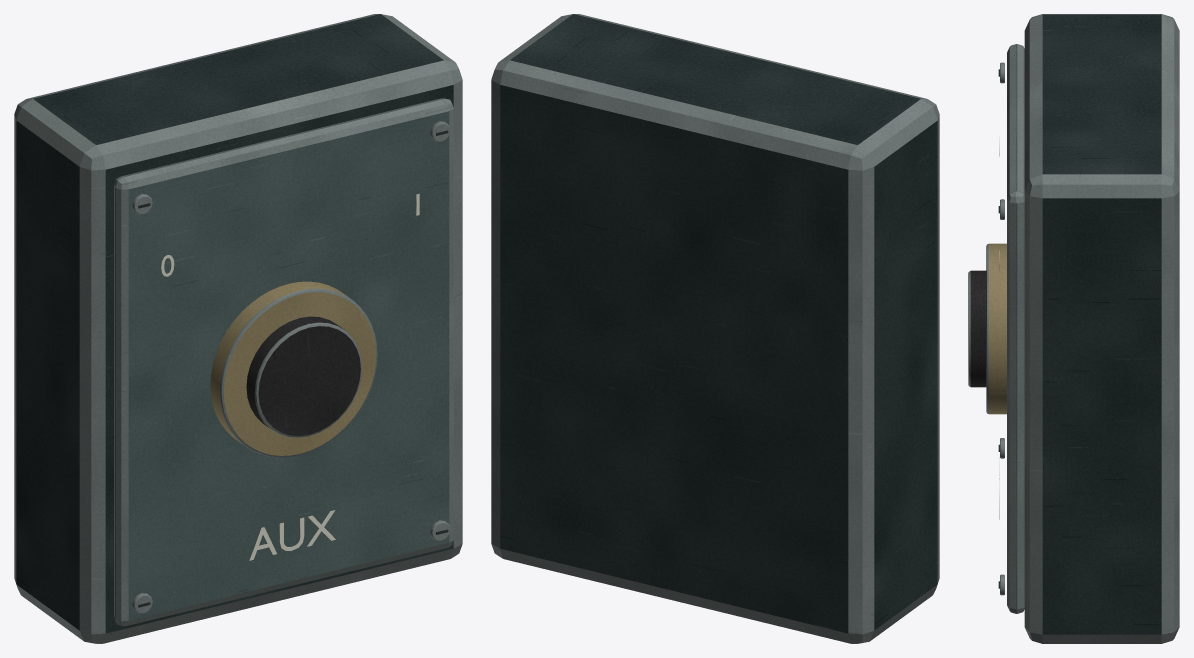
The model's file is AUX_Housing.fbx.
The picture shows the model from 3 angles, left to right: view 1: azimuth 30°, elevation 25°; view 2: azimuth 150°, elevation 25°; view 3: azimuth 270°, elevation 25°; orthographic projection. The views are drawn at different scales.
Visible parts, largest first — view 1: AUX_Housing__Visual; view 2: AUX_Housing__Visual; view 3: AUX_Housing__Visual.
Part boxes in pixels (x1,y1,x2,y2): AUX_Housing__Visual: [14, 14, 462, 643]; AUX_Housing__Visual: [491, 14, 939, 643]; AUX_Housing__Visual: [968, 14, 1179, 643].
Bounding box in the file's own units: 0.32 × 0.4 × 0.1635.
